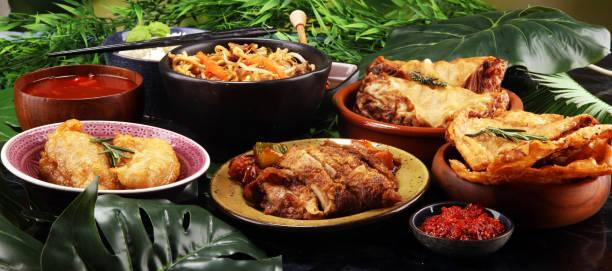Braised Crucian Carp: (427, 109, 612, 223), (209, 138, 426, 232), (157, 37, 335, 143), (3, 119, 211, 204), (335, 57, 523, 141), (13, 64, 143, 132)
